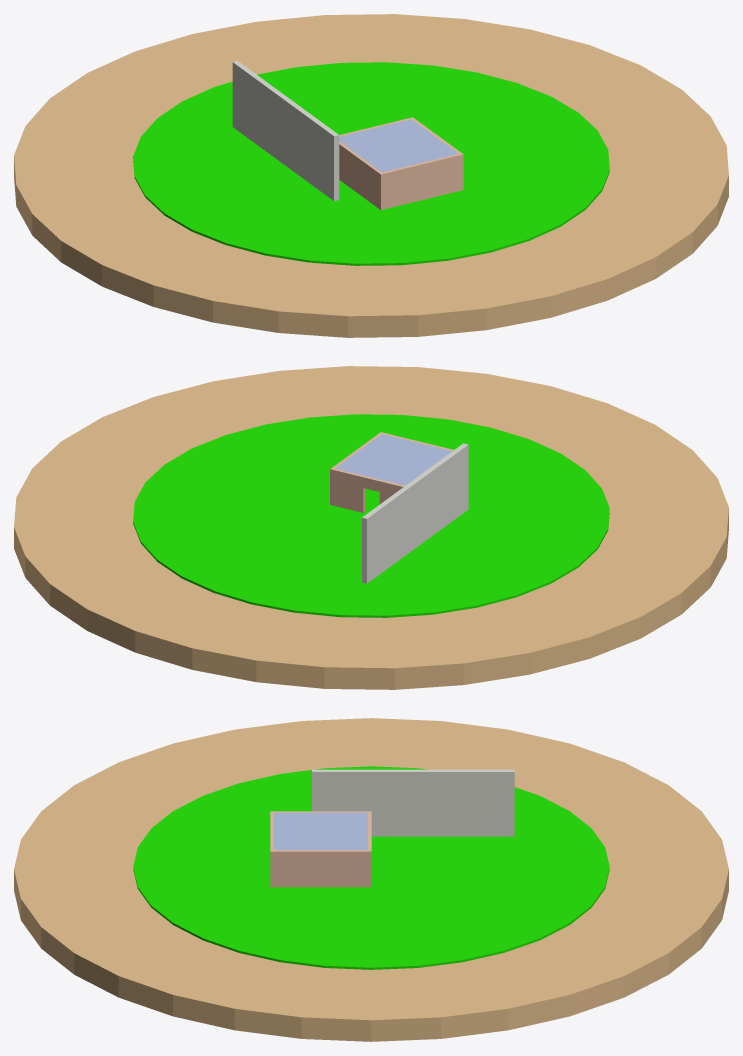
The model's file is testhomemap.glb.
The picture shows the model from 3 angles, top to bottom: view 1: azimuth 30°, elevation 25°; view 2: azimuth 150°, elevation 25°; view 3: azimuth 270°, elevation 25°; orthographic projection.
Visible parts, largest first — view 1: Cylinder.001, Cylinder, tall_wall, room_ceiling, room_back, room_left; view 2: Cylinder.001, Cylinder, tall_wall, room_ceiling, room_front_r; view 3: Cylinder.001, Cylinder, tall_wall, room_right, room_ceiling.
Boxes of the visible parts, x1,y1,x2,y2 form: Cylinder.001: [14, 14, 728, 337]; Cylinder: [133, 62, 609, 265]; tall_wall: [232, 61, 339, 201]; room_ceiling: [339, 119, 458, 172]; room_back: [379, 153, 463, 209]; room_left: [339, 141, 383, 209]; Cylinder.001: [14, 366, 728, 689]; Cylinder: [133, 414, 609, 617]; tall_wall: [362, 443, 468, 583]; room_ceiling: [335, 434, 451, 485]; room_front_r: [330, 468, 364, 512]; Cylinder.001: [14, 718, 728, 1041]; Cylinder: [133, 766, 609, 969]; tall_wall: [312, 769, 514, 836]; room_right: [270, 850, 371, 887]; room_ceiling: [273, 812, 367, 849].
Bounding box in the file's own units: 60 × 8.2 × 60.
